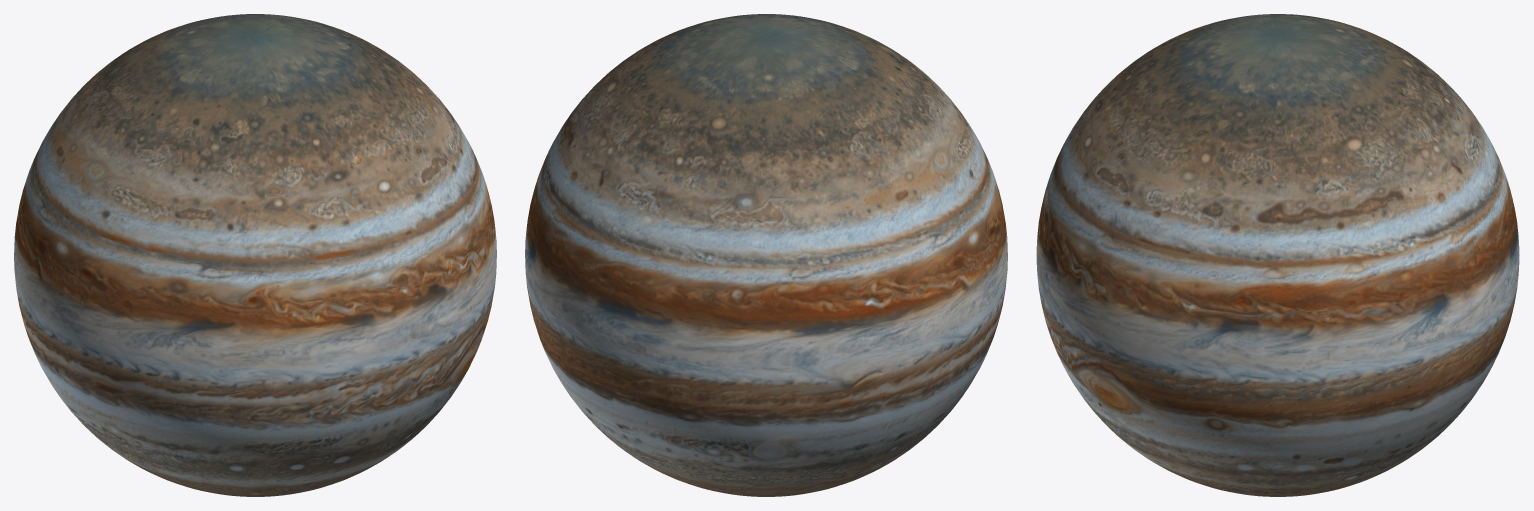
File: Jupiter fbx.fbx
The picture shows the model from 3 angles, left to right: view 1: azimuth 30°, elevation 25°; view 2: azimuth 150°, elevation 25°; view 3: azimuth 270°, elevation 25°; orthographic projection.
Visible parts, largest first — view 1: Sphere; view 2: Sphere; view 3: Sphere.
Boxes of the visible parts, x1,y1,x2,y2 form: Sphere: (14,14,496,496); Sphere: (525,14,1007,496); Sphere: (1036,14,1519,496).
Size of the model in its own units: 25969 by 25969 by 25969.
1 material, 1 textured.
